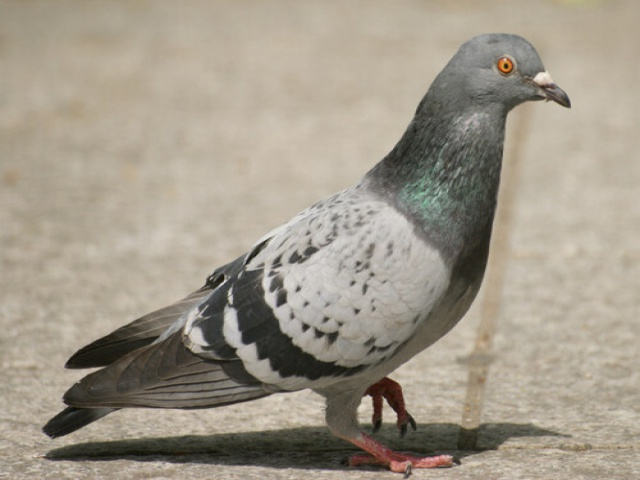Pigeon: (37, 31, 576, 478)
